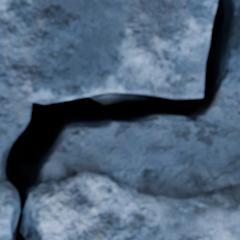brick: (0, 0, 215, 102)
broken_brick: (27, 169, 239, 239), (0, 180, 17, 239)
crack: (1, 0, 239, 239)
